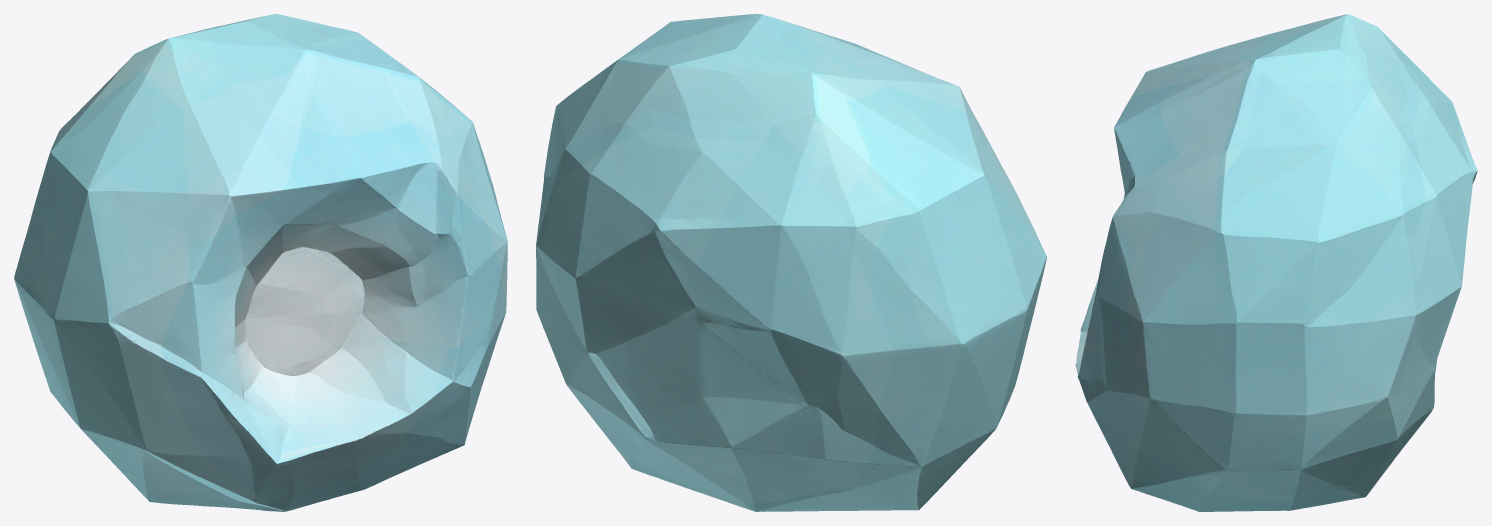
File: Orb_AI.fbx
3 renders of one model, left to right at view 1: azimuth 30°, elevation 25°; view 2: azimuth 150°, elevation 25°; view 3: azimuth 270°, elevation 25°, orthographic. The views are drawn at different scales.
Parts seen in each view (by area): view 1: temp; view 2: temp; view 3: temp.
Part boxes in pixels (x1,y1,x2,y2): temp: [14, 14, 507, 511]; temp: [536, 14, 1046, 511]; temp: [1075, 14, 1477, 511].
Bounding box in the file's own units: 200 × 191 × 161.
1 material, 1 textured.
